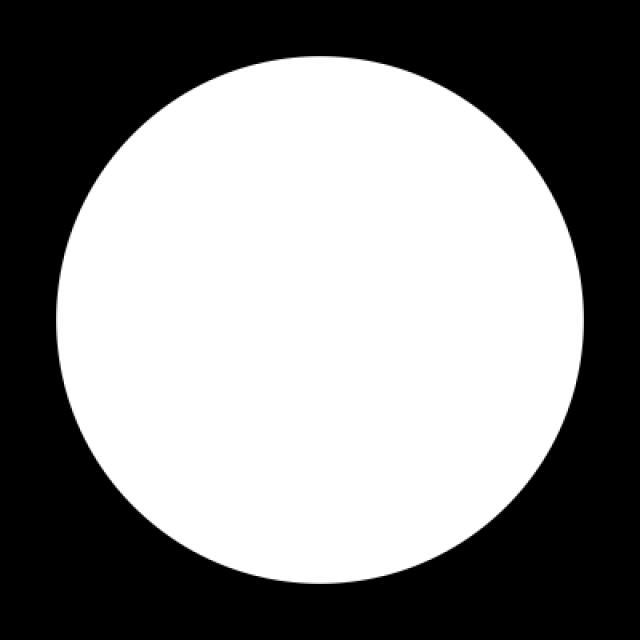Circle: (58, 58, 582, 582)
